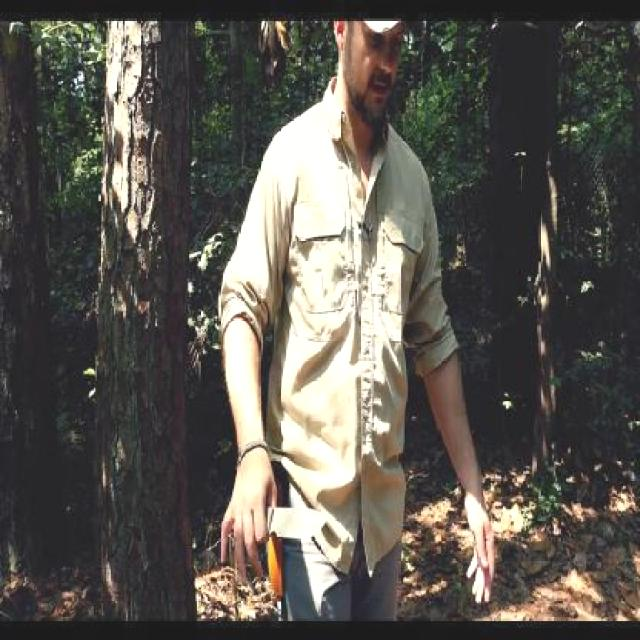knife: (226, 500, 332, 555)
